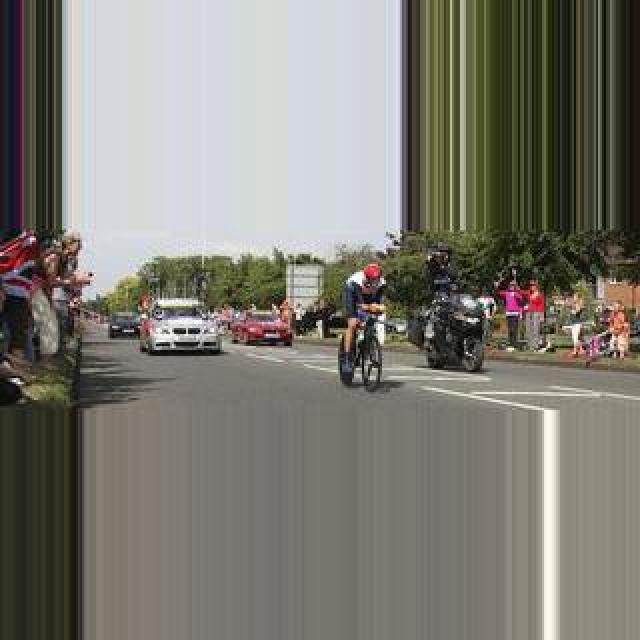Bus-Bike: (146, 298, 222, 354), (232, 310, 292, 348), (108, 314, 140, 338)
Emergency Vehicles-Bike: (420, 292, 492, 372)
MC-Bike: (416, 244, 462, 356), (342, 262, 388, 370), (500, 272, 526, 350), (524, 280, 546, 350)
Person: (340, 310, 386, 392)
